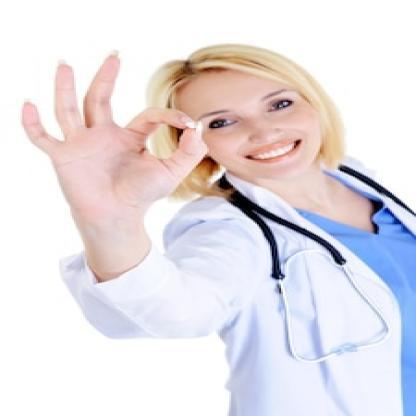ok: (17, 47, 209, 215)
